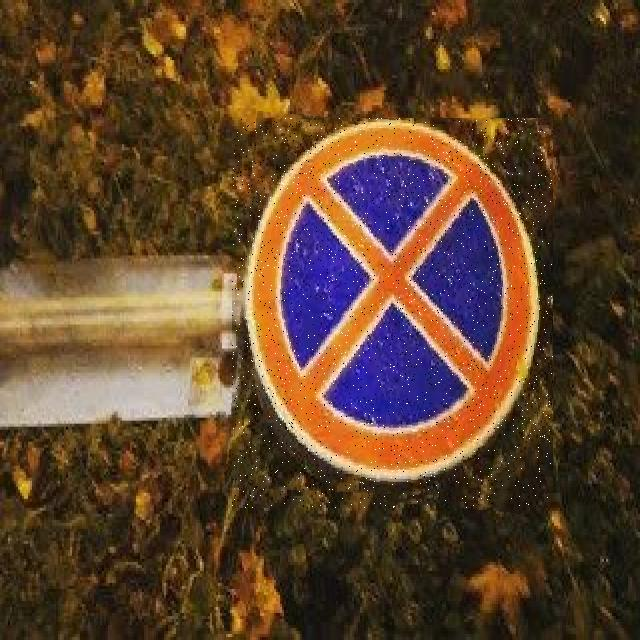no stopping: (232, 118, 553, 508)
